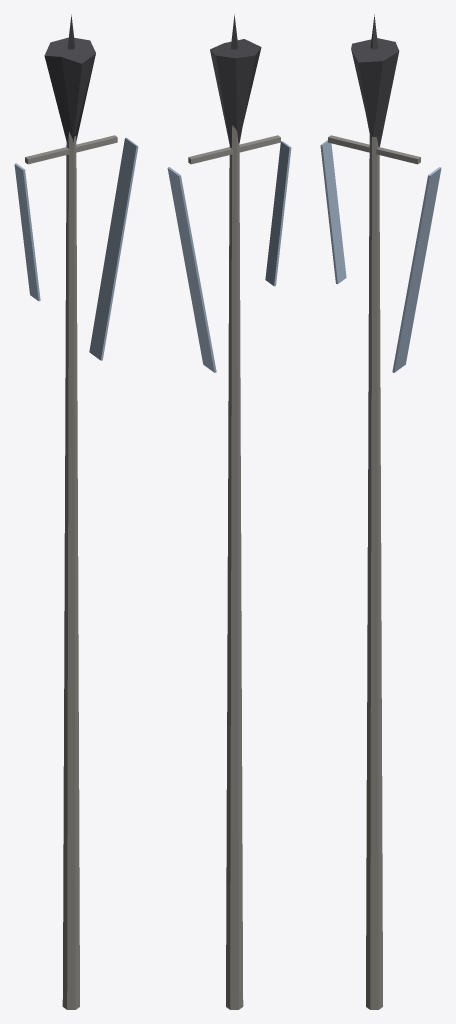
Rendered from landmark_spirit_banner.glb.
3 renders of one model, left to right at view 1: azimuth 30°, elevation 25°; view 2: azimuth 210°, elevation 25°; view 3: azimuth 330°, elevation 25°, orthographic.
Visible parts, largest first — view 1: landmark_spirit_banner_mesh; view 2: landmark_spirit_banner_mesh; view 3: landmark_spirit_banner_mesh.
Boxes of the visible parts, left/top/right/bottom form: landmark_spirit_banner_mesh: left=14, top=14, right=138, bottom=1009; landmark_spirit_banner_mesh: left=167, top=14, right=291, bottom=1009; landmark_spirit_banner_mesh: left=320, top=14, right=441, bottom=1009.
Size of what is drawn, in the model's own units: 2.25 by 19 by 0.8721.
